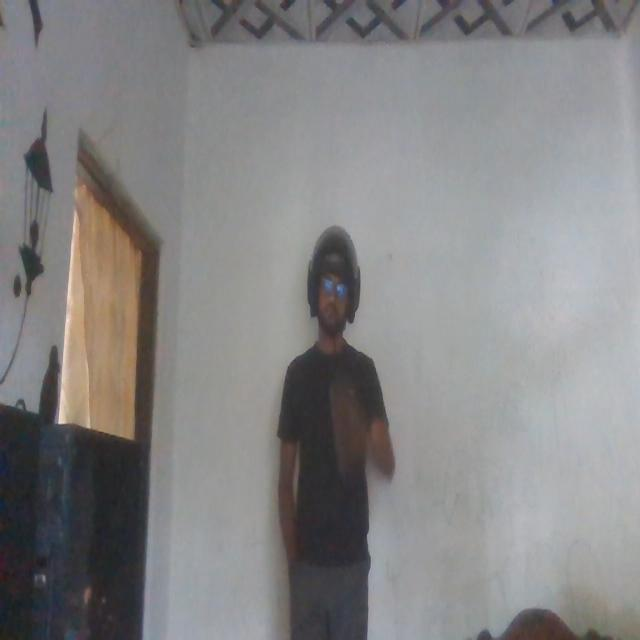Helmet_Wearer: (305, 224, 369, 354)
Person: (267, 218, 398, 640)
